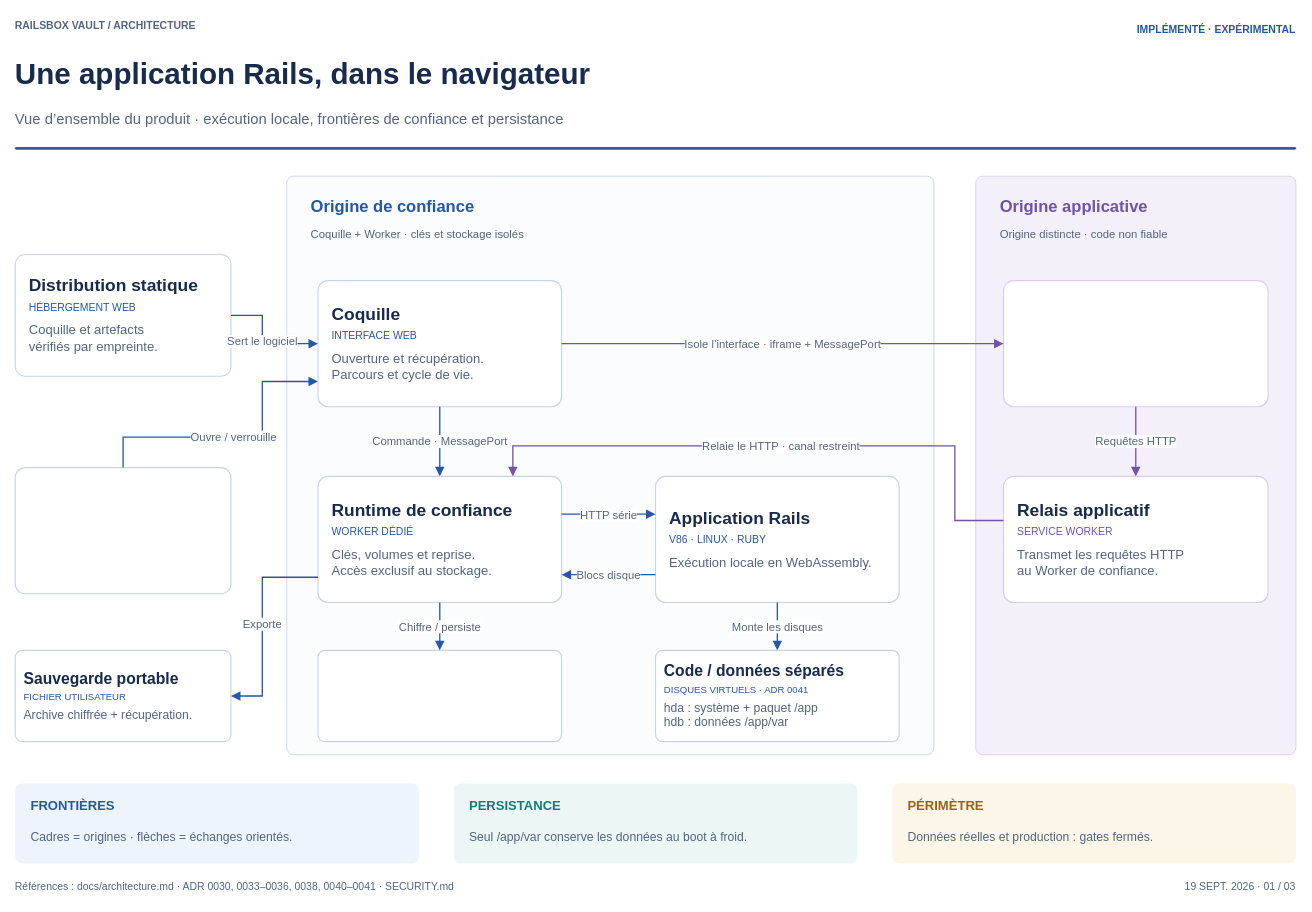
This 1312x912 diagram has some shape labels left out. Each missing label, with the box of its shape:
Interface Rails IFRAME SANDBOXÉE Affiche les pages Rails. Aucun accès aux clés.: (1003, 280, 1268, 407)
Utilisateur PERSONNE Ouvre, travaille, verrouille et sauvegarde.: (14, 467, 231, 594)
Volumes chiffrés OPFS · ORIGINE DE CONFIANCE Données + instantané de reprise.: (317, 649, 562, 742)
